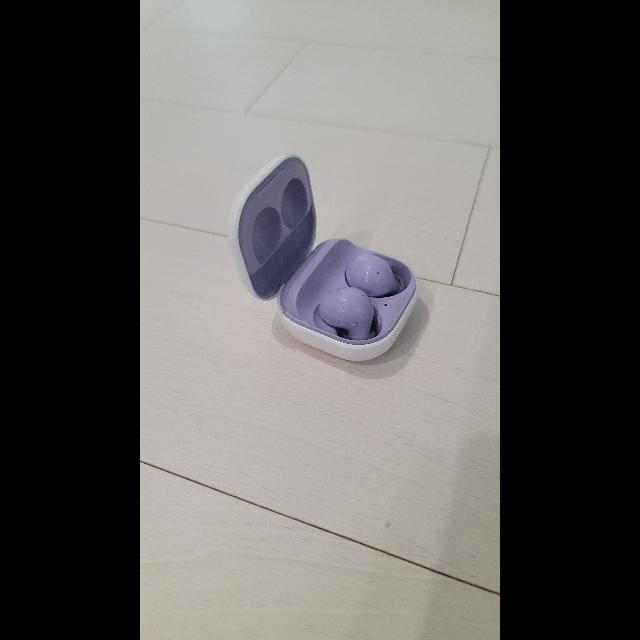GALAXY-BUDS-2: (228, 150, 420, 359)
